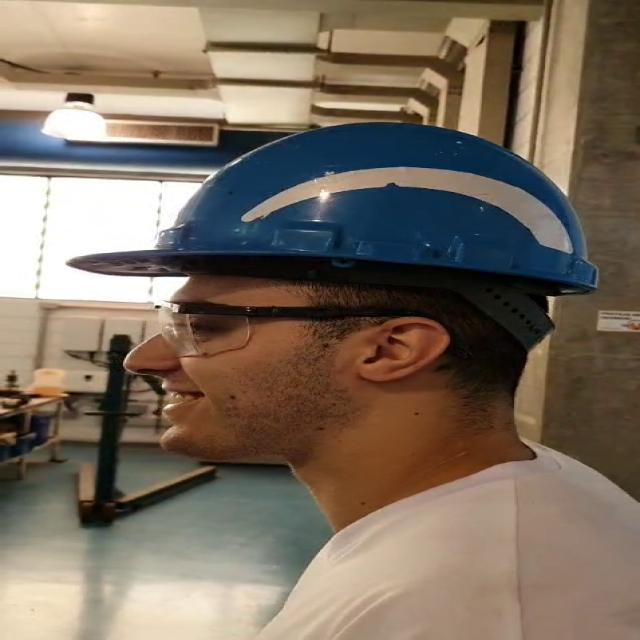oculos-epi: (157, 302, 418, 357)
